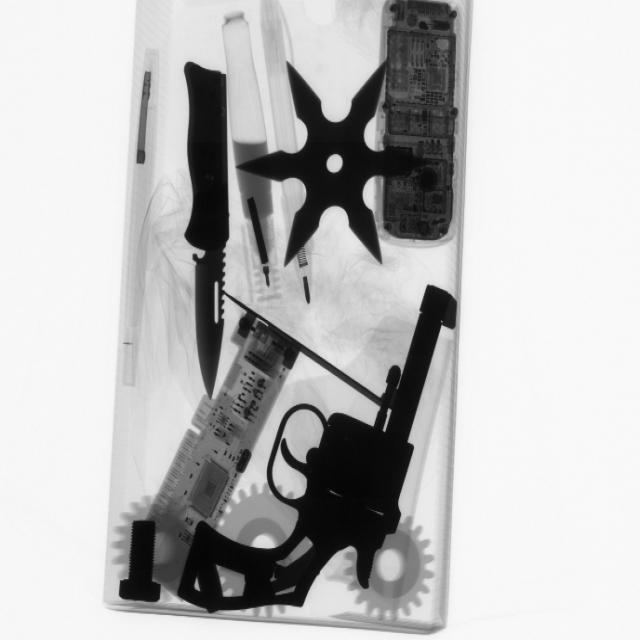GUN: (170, 283, 459, 625)
KNIFE: (168, 57, 243, 389)
SHURIKEN: (248, 53, 422, 270)
